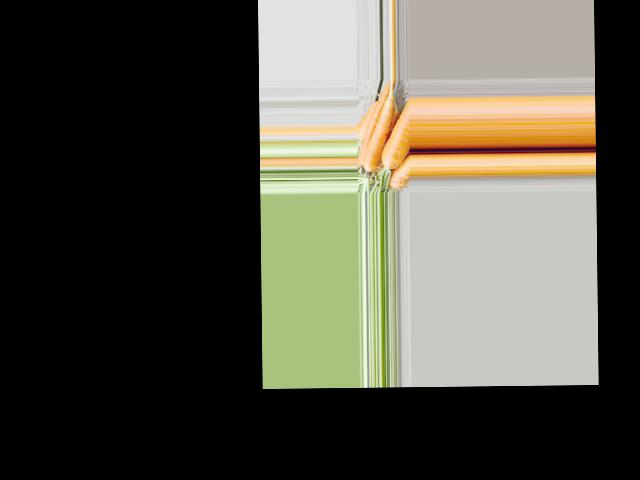carrot: (388, 147, 410, 175)
